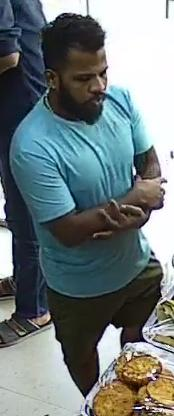no_apron: (28, 42, 162, 284)
